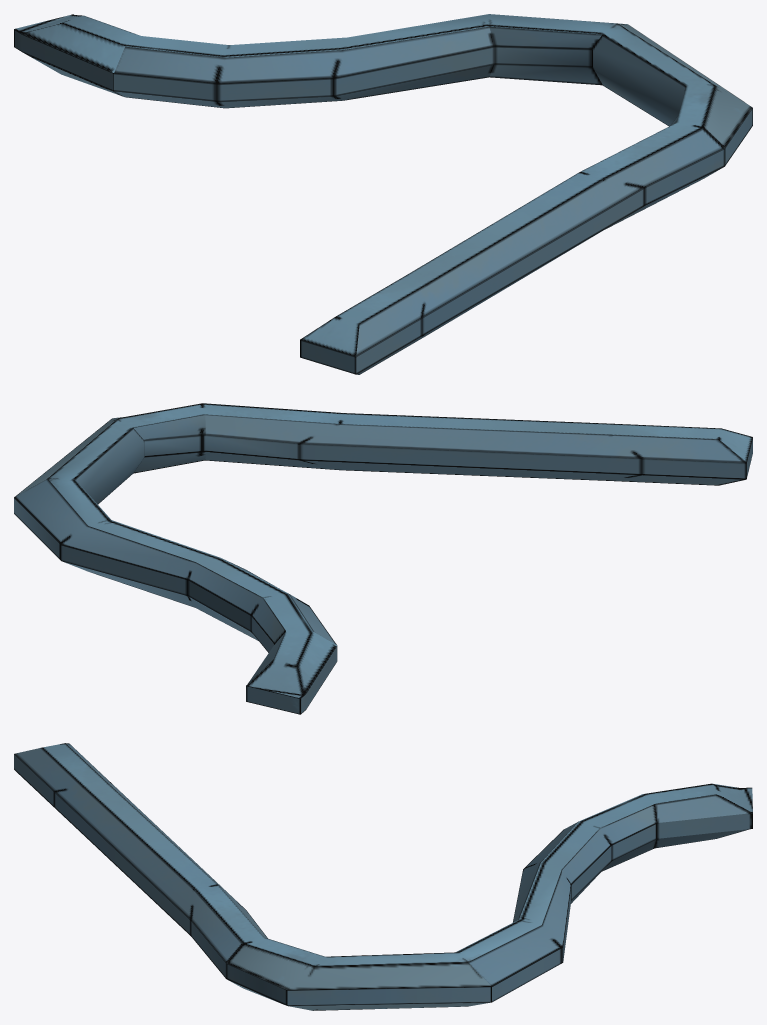
The model's file is wirefortank.fbx.
3 views of the same model, one above another, from view 1: azimuth 30°, elevation 25°; view 2: azimuth 150°, elevation 25°; view 3: azimuth 270°, elevation 25° (orthographic). The views are drawn at different scales.
Visible parts, largest first — view 1: wire1; view 2: wire1; view 3: wire1.
Boxes of the visible parts, x1,y1,x2,y2 form: wire1: (14, 14, 752, 374); wire1: (14, 403, 752, 714); wire1: (14, 743, 752, 1010).
Size of the model in its own units: 1.09 by 0.0914 by 1.38.
